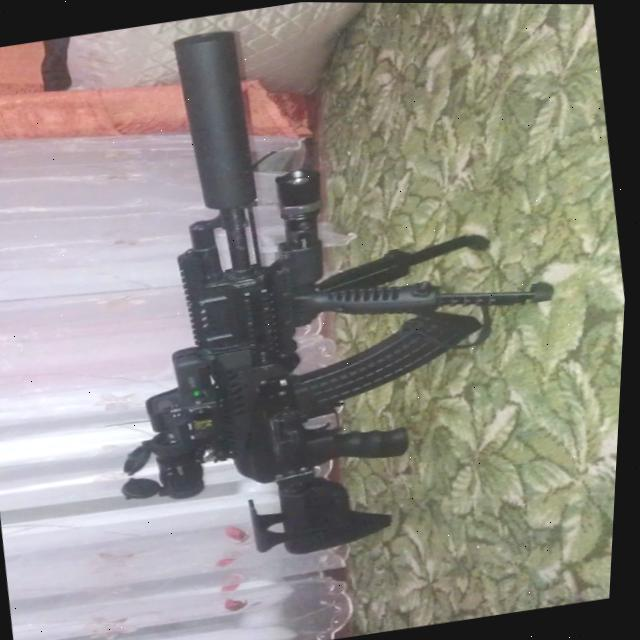firearm: (51, 0, 606, 583)
